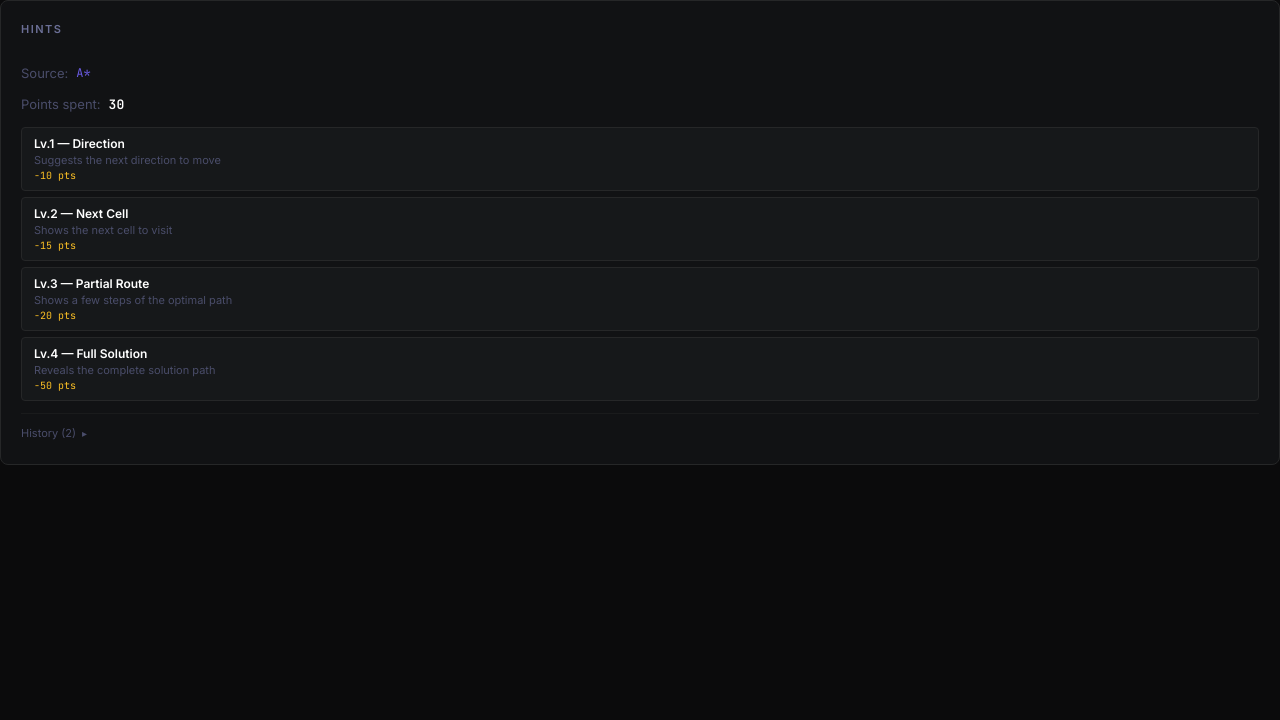
Test case: HintPanel › shows hint history cumulatively
The width and height of the screenshot is (1280, 720).
Check: the text "Points spent:" is shown, box [21,95,101,114]
Check: the text "30" is shown, box [109,95,124,114]
Click the button "History (2) ▸" at x=54, y=432, box [21,422,87,444]
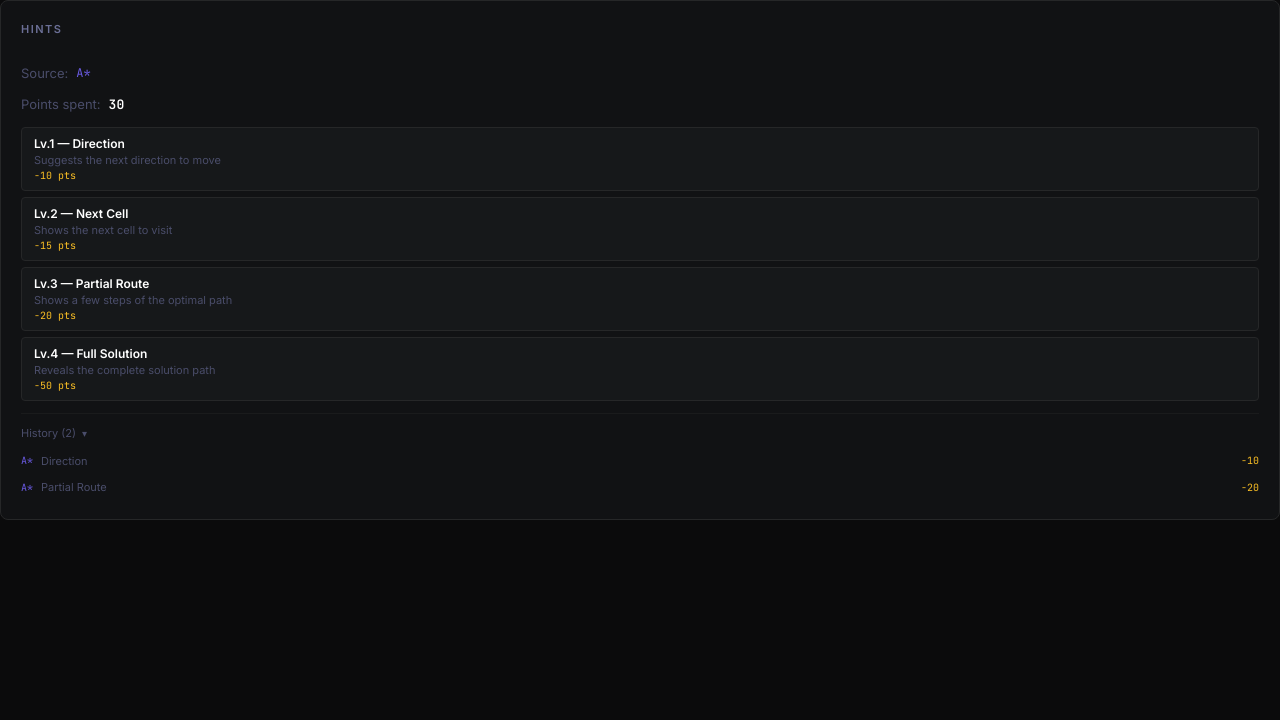
Check: the text "Direction" is shown, box [41,454,88,468]
Check: the text "Partial Route" is shown, box [41,480,107,494]
Check: the text "−10" is shown, box [1241,453,1259,468]
